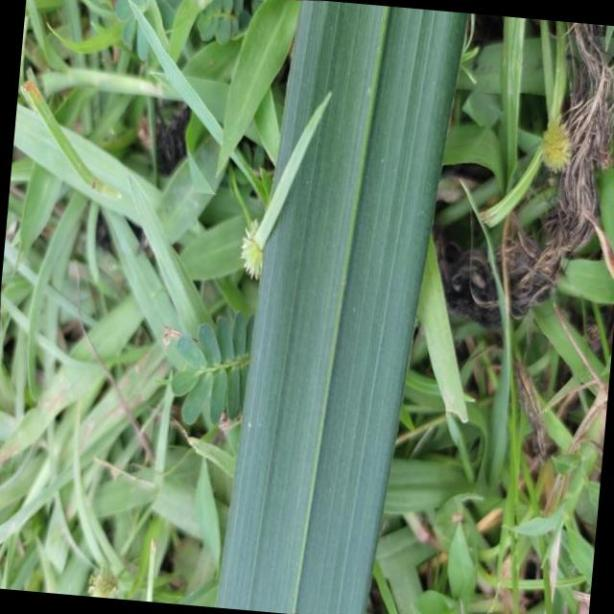Healthy: (219, 0, 470, 614)
